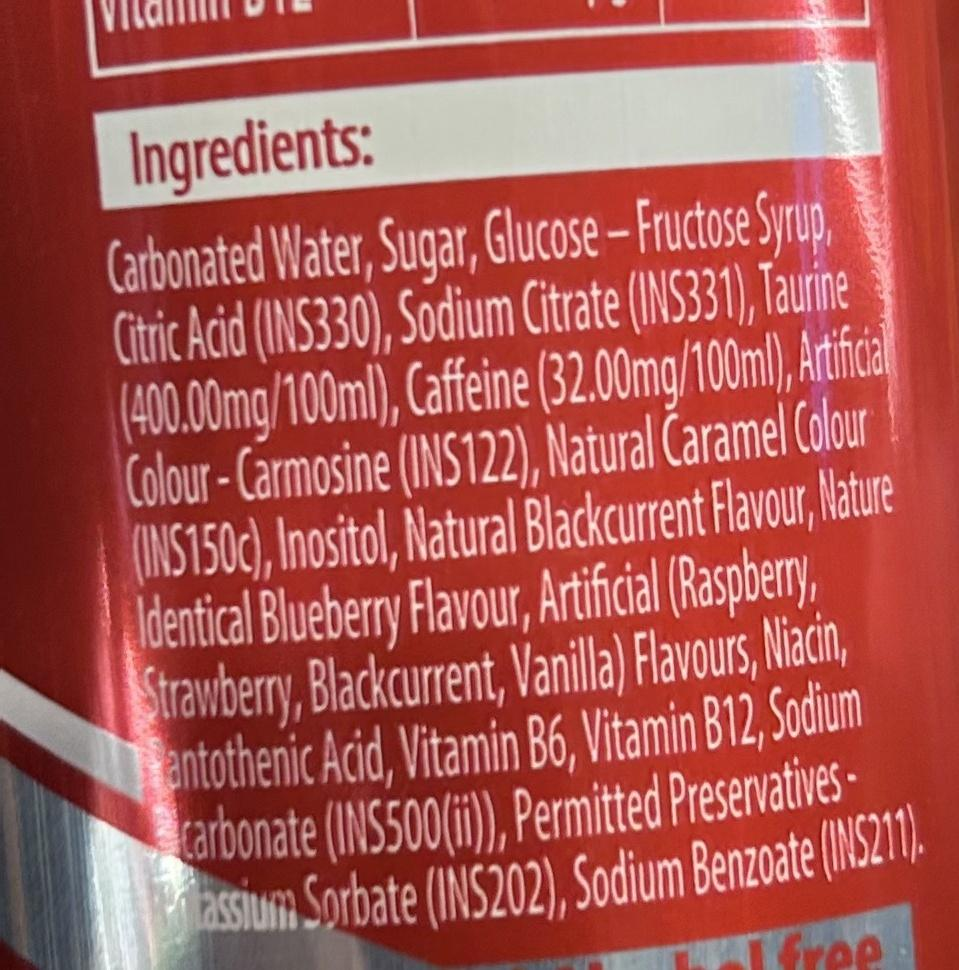ingredients: (57, 70, 937, 933)
